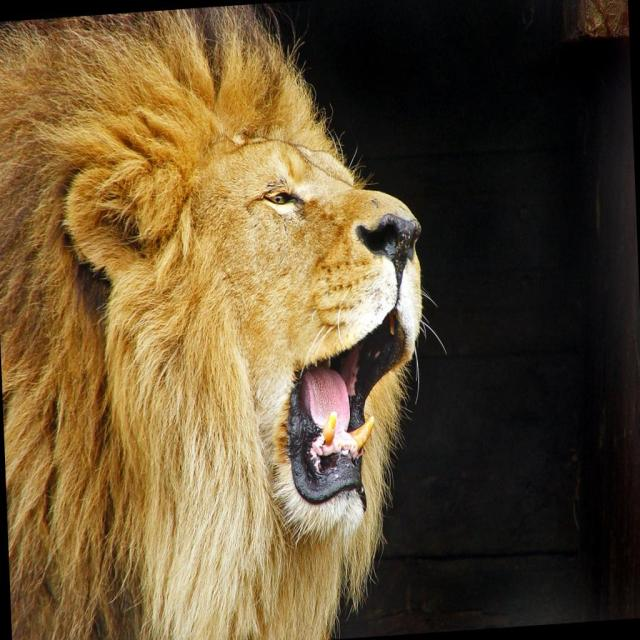Lion: (0, 0, 458, 639)
